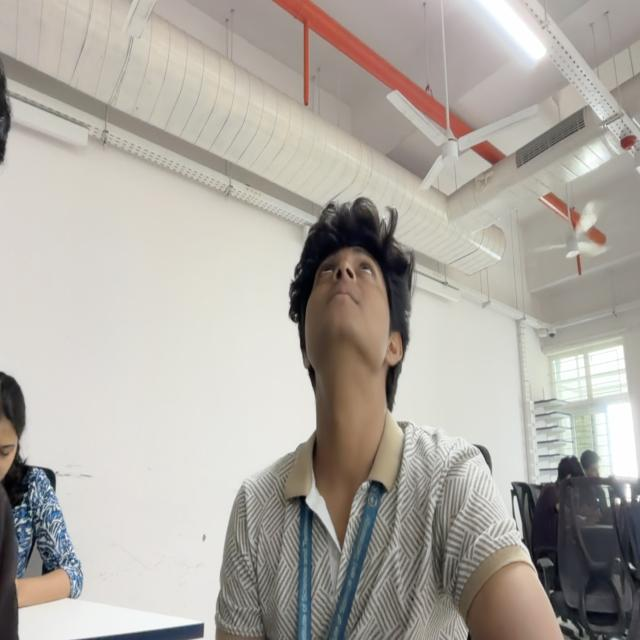kshitij: (291, 195, 407, 402)
